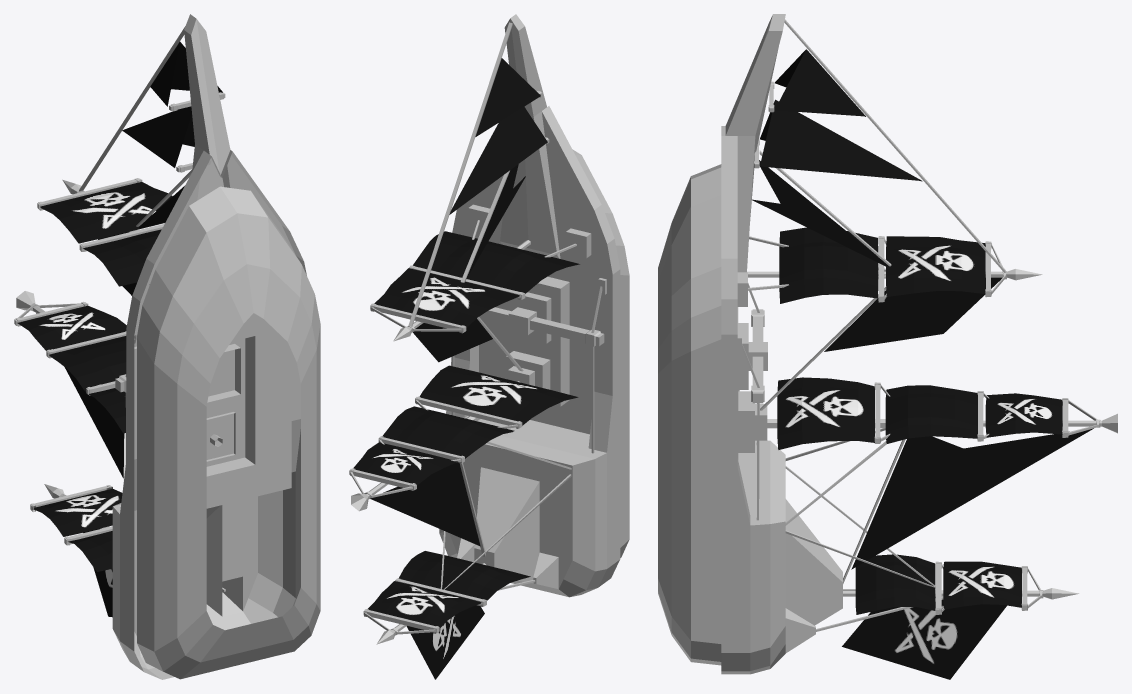
The model's file is main_4_3.fbx.
The picture shows the model from 3 angles, left to right: view 1: azimuth 30°, elevation 25°; view 2: azimuth 150°, elevation 25°; view 3: azimuth 270°, elevation 25°; orthographic projection. The views are drawn at different scales.
Parts seen in each view (by area): view 1: Cube.201; view 2: Cube.201; view 3: Cube.201.
Part boxes in pixels (x1=…): Cube.201: x1=14, y1=14, x2=320, y2=679; Cube.201: x1=349, y1=14, x2=629, y2=679; Cube.201: x1=658, y1=14, x2=1117, y2=679.
Bounding box in the file's own units: 479 × 1726 × 1080.
